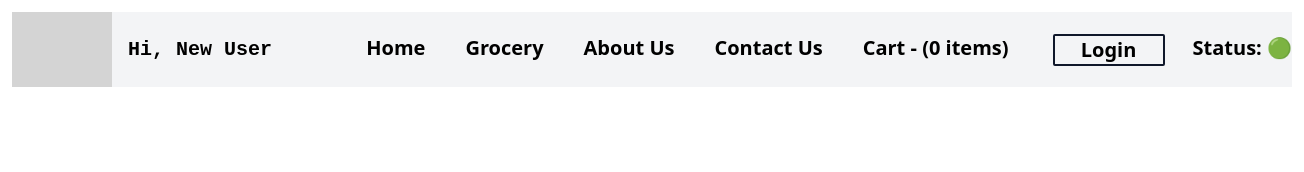
Test case: Header Component test cases › Should change to Logout on Login button click
Click the button "Login": (1108, 50) [1052,34,1164,66]
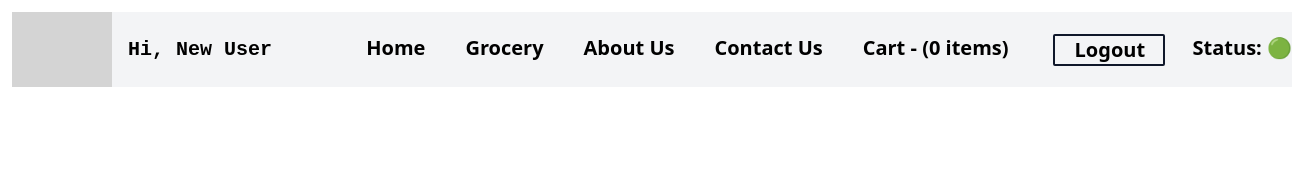
Now the button "Logout" is shown, box [1052,34,1164,66]
